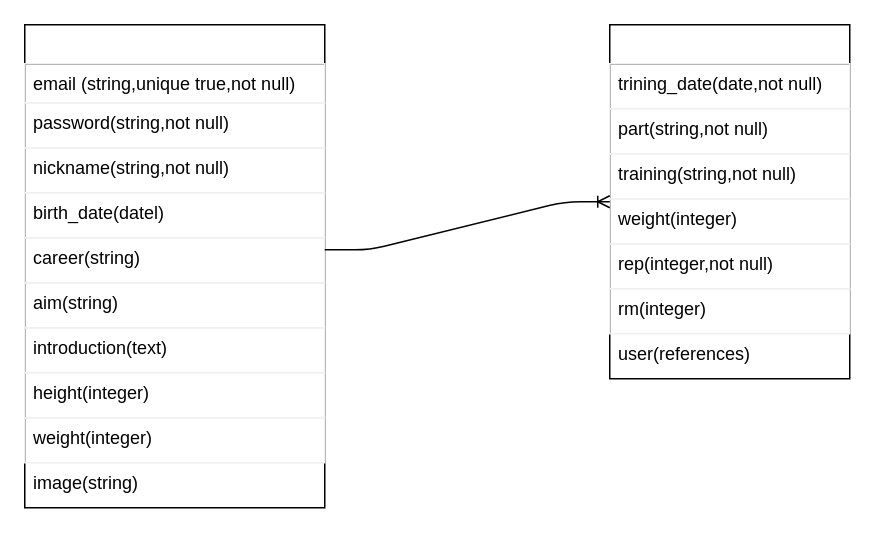
Image size: 875x533. Some labels were removed from this diagram. Here are the shapes that lost their labels. From the top down, the box of each, then its label:
(608, 23, 850, 379): Menus
(23, 23, 325, 508): Users
